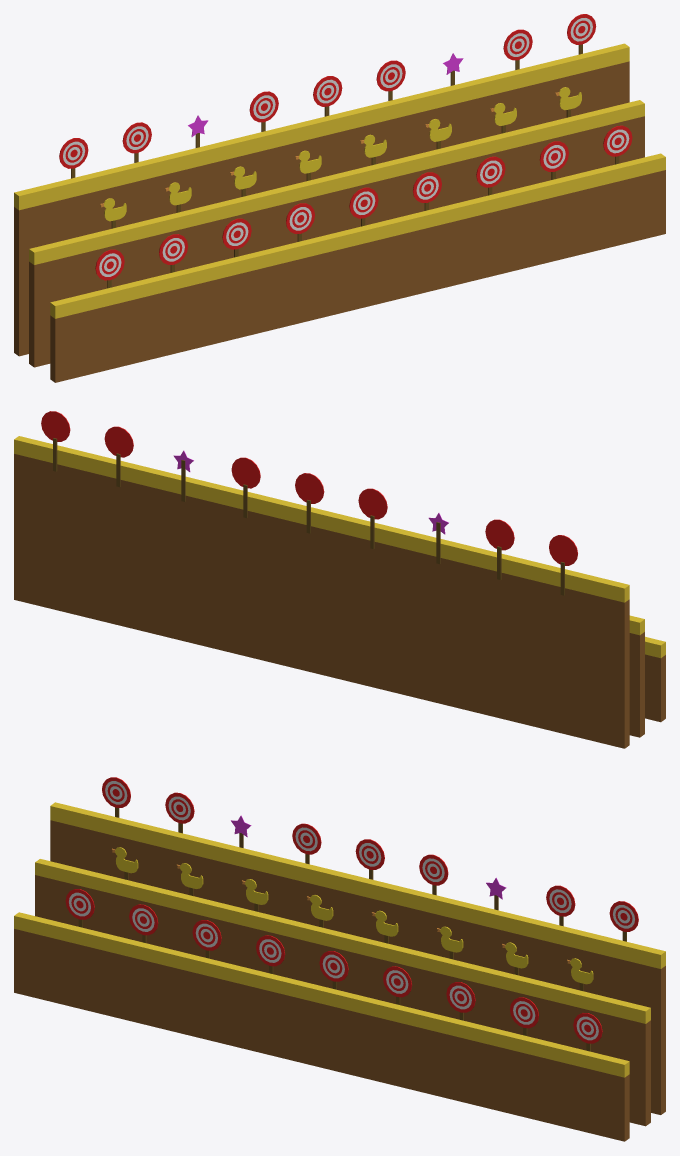
File: shootingGallery.fbx
The picture shows the model from 3 angles, top to bottom: view 1: azimuth 30°, elevation 25°; view 2: azimuth 150°, elevation 25°; view 3: azimuth 330°, elevation 25°; orthographic projection.
Visible parts, largest first — view 1: Shooting Gallery, Target 13, Target 12, Target 14, Target 15, Target 11, Target 16, Target 10, Target 5, Target 9, Target 3, Target 8 (+5 smaller); view 2: Shooting Gallery, Target 15, Target 14, Target 11, Target 12, Target 10, Target 13, Target 16; view 3: Shooting Gallery, Target 15, Target 14, Target 11, Target 12, Target 13, Target 16, Target 10, Target 2, Target 4, Target 6, Target 8 (+5 smaller).
Part boxes in pixels (left/top/right/bottom): Shooting Gallery: left=14, top=43, right=665, bottom=382; Target 13: left=313, top=76, right=342, bottom=116; Target 12: left=249, top=91, right=278, bottom=131; Target 14: left=376, top=60, right=405, bottom=100; Target 15: left=503, top=29, right=532, bottom=69; Target 11: left=122, top=122, right=151, bottom=162; Target 16: left=567, top=14, right=596, bottom=54; Target 10: left=59, top=138, right=88, bottom=178; Target 5: left=349, top=187, right=378, bottom=226; Target 9: left=603, top=125, right=632, bottom=164; Target 3: left=222, top=218, right=251, bottom=257; Target 8: left=539, top=141, right=568, bottom=179; Shooting Gallery: left=14, top=436, right=665, bottom=748; Target 15: left=104, top=426, right=133, bottom=487; Target 14: left=231, top=457, right=260, bottom=518; Target 11: left=485, top=519, right=514, bottom=579; Target 12: left=358, top=488, right=387, bottom=548; Target 10: left=549, top=535, right=577, bottom=595; Target 13: left=295, top=473, right=324, bottom=533; Target 16: left=41, top=411, right=70, bottom=471; Shooting Gallery: left=14, top=802, right=665, bottom=1141; Target 15: left=546, top=885, right=575, bottom=926; Target 14: left=419, top=854, right=448, bottom=895; Target 11: left=165, top=792, right=194, bottom=833; Target 12: left=292, top=823, right=321, bottom=864; Target 13: left=355, top=839, right=384, bottom=879; Target 16: left=609, top=901, right=638, bottom=941; Target 10: left=102, top=777, right=130, bottom=817; Target 2: left=129, top=904, right=158, bottom=943; Target 4: left=256, top=935, right=285, bottom=973; Target 6: left=383, top=966, right=411, bottom=1004; Target 8: left=510, top=997, right=538, bottom=1035.
Size of the model in its own units: 721 by 87.93 by 225.
